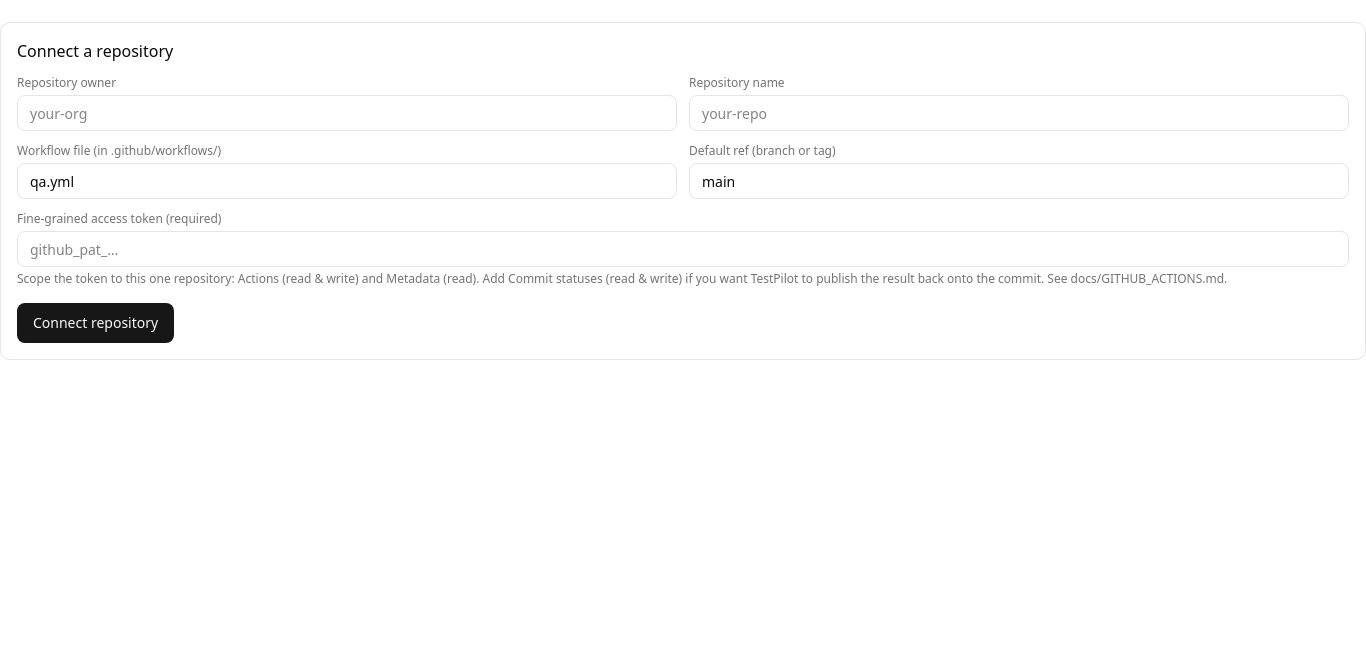
GitHubIntegrationPanel › connects a repository and shows the one-time webhook secret
In the field labelled "Repository owner": (347, 113) [17, 95, 677, 131], type "acme"
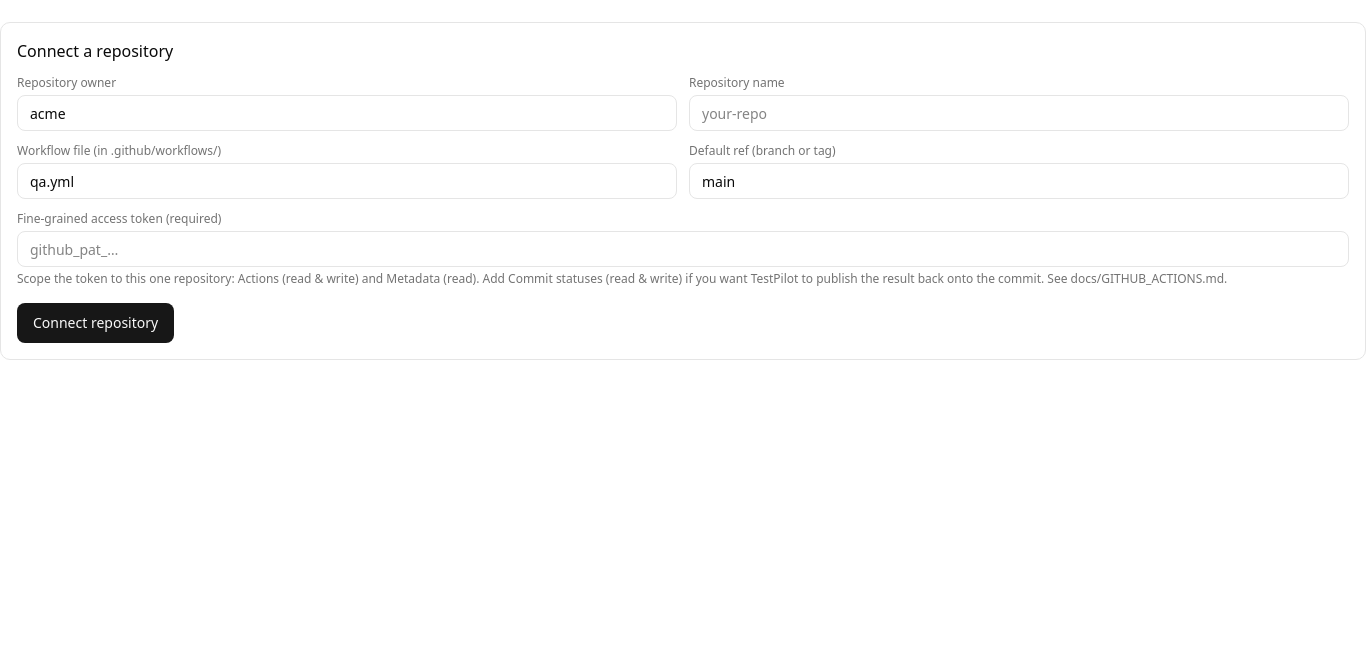
In the field labelled "Repository name": (1019, 113) [689, 95, 1349, 131], type "shop"
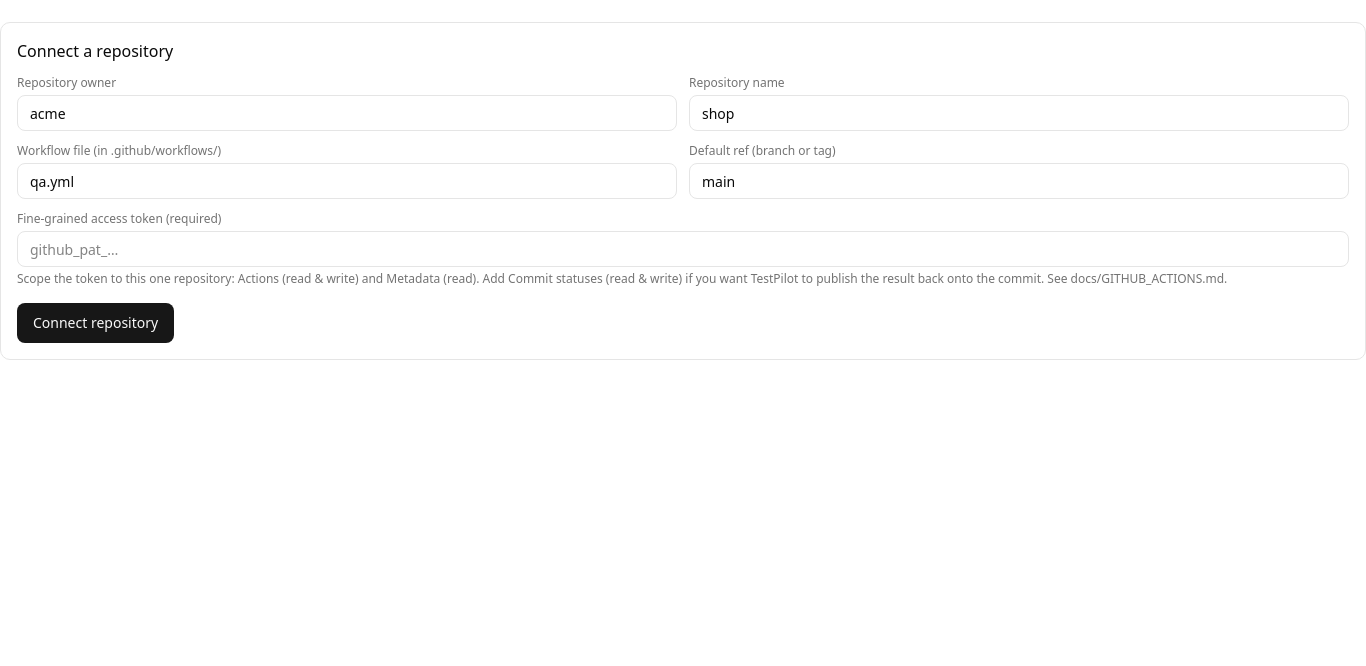
In the password field labelled "Fine-grained access token (required)": (683, 249) [17, 231, 1349, 267], type "github_pat_x"
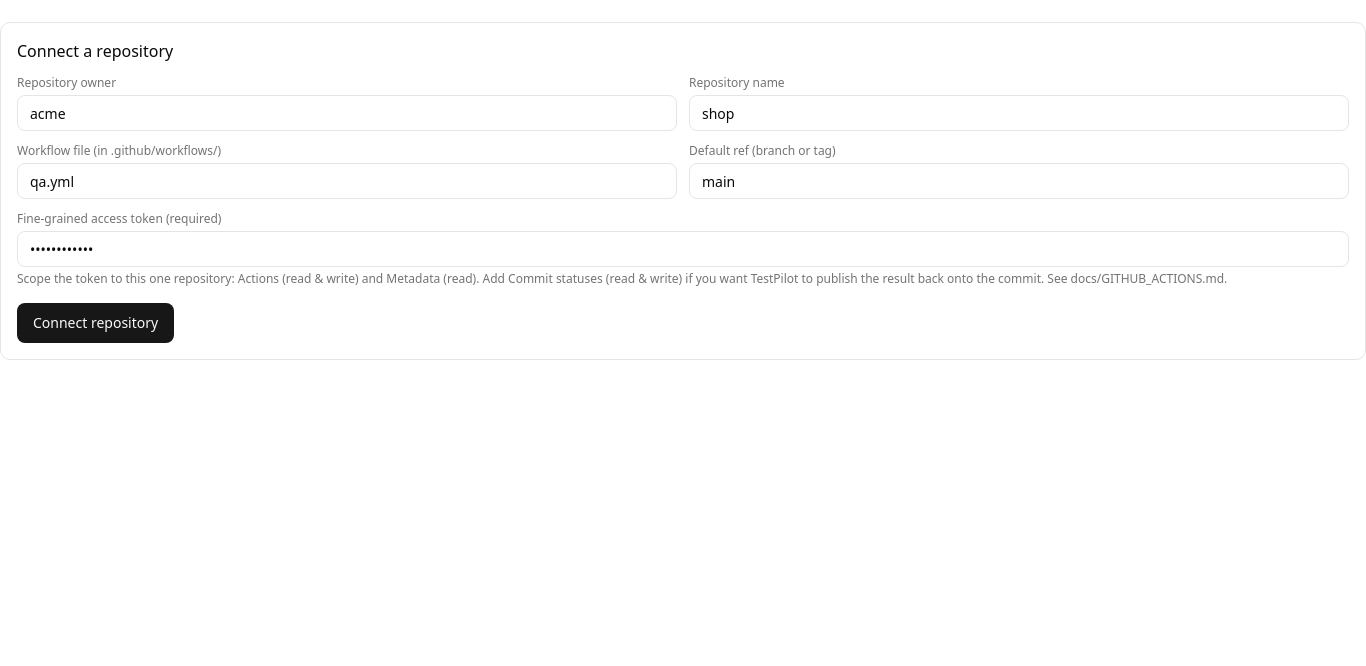
Click the button "Connect repository": click(96, 323) [17, 303, 174, 343]
(page scrolled)
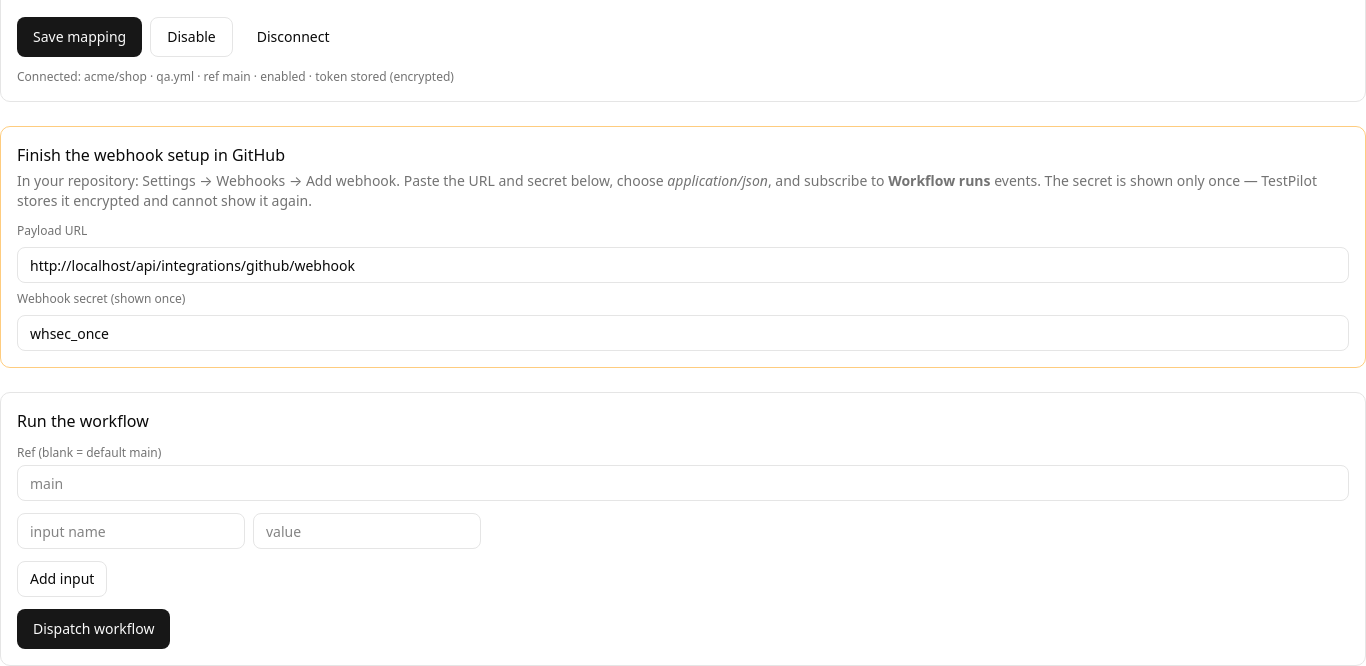
expect the heading "Finish the webhook setup in GitHub" is shown: met, box [17, 144, 285, 166]
expect the field labelled "Webhook secret (shown once)" holds "whsec_once": met, box [17, 315, 1349, 351]
